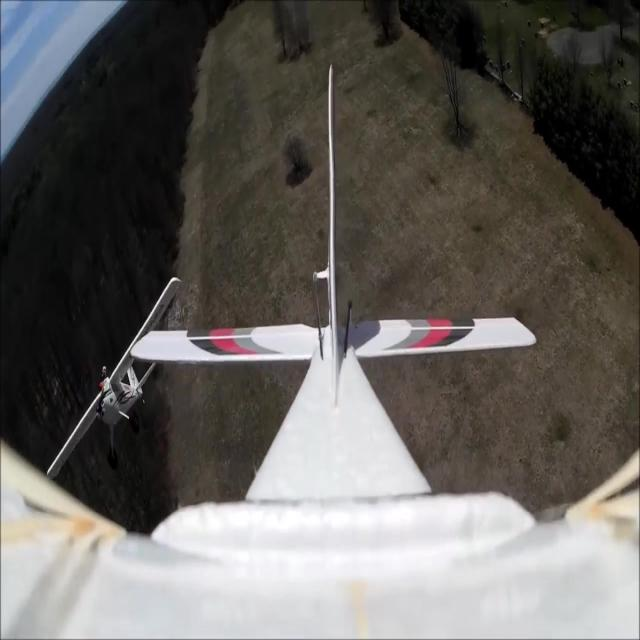iha: (0, 279, 117, 472)
